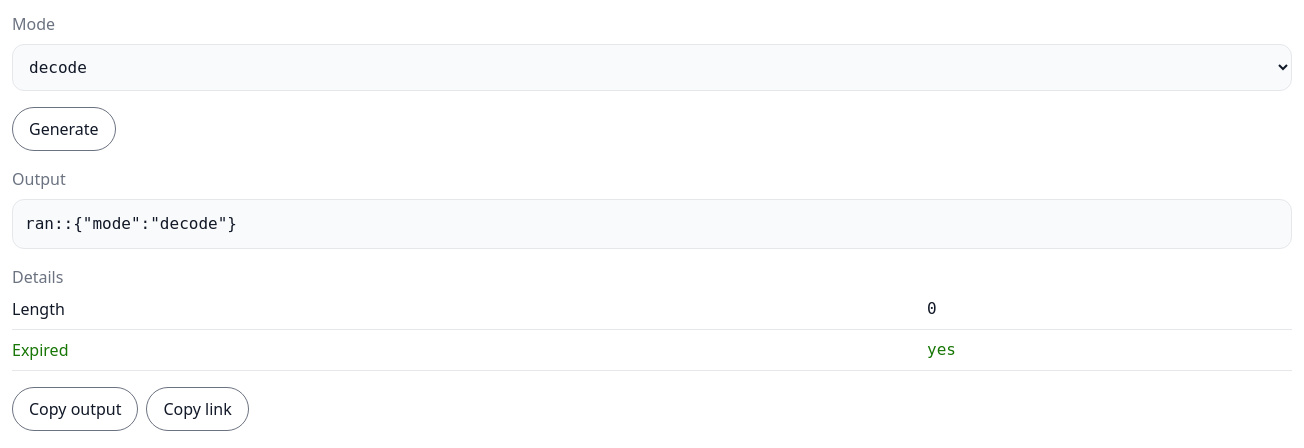
ToolPane › runs a generator with an empty input, on mount and on every option change
The image size is (1304, 448).
expect the text "ran::{\"mode\":\"decode\"}" is shown: met, box [12,199,1292,249]
Step 1. Select "encode" in the dropdown labelled "Mode" → (652, 68), box [12,44,1292,91]
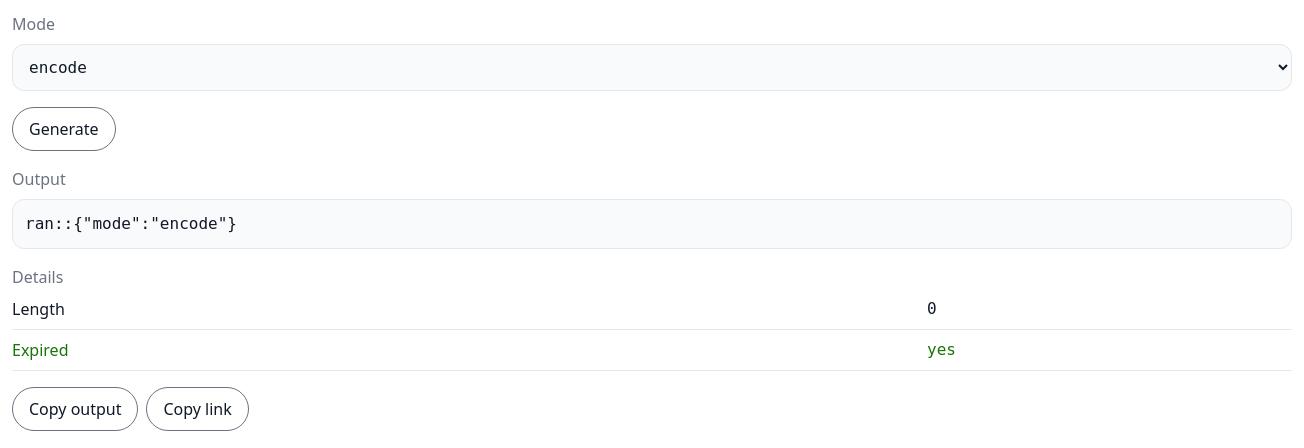
expect the text "ran::{\"mode\":\"encode\"}" is shown: met, box [12,199,1292,249]
